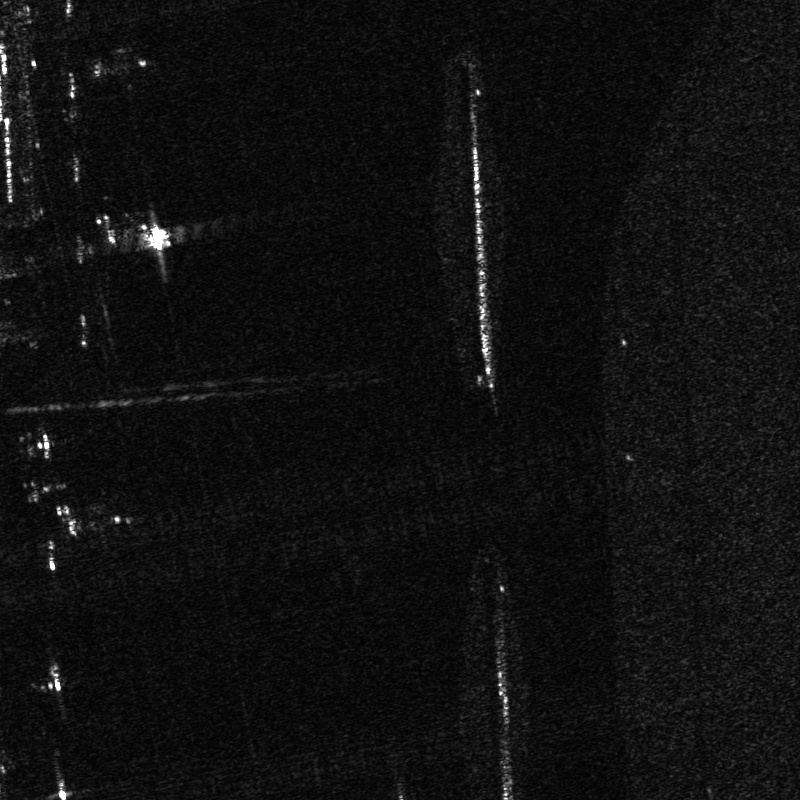A220: (79, 28, 157, 92), (35, 663, 80, 718), (11, 430, 71, 464), (36, 768, 91, 799), (45, 500, 82, 540)
other: (18, 478, 75, 504)
